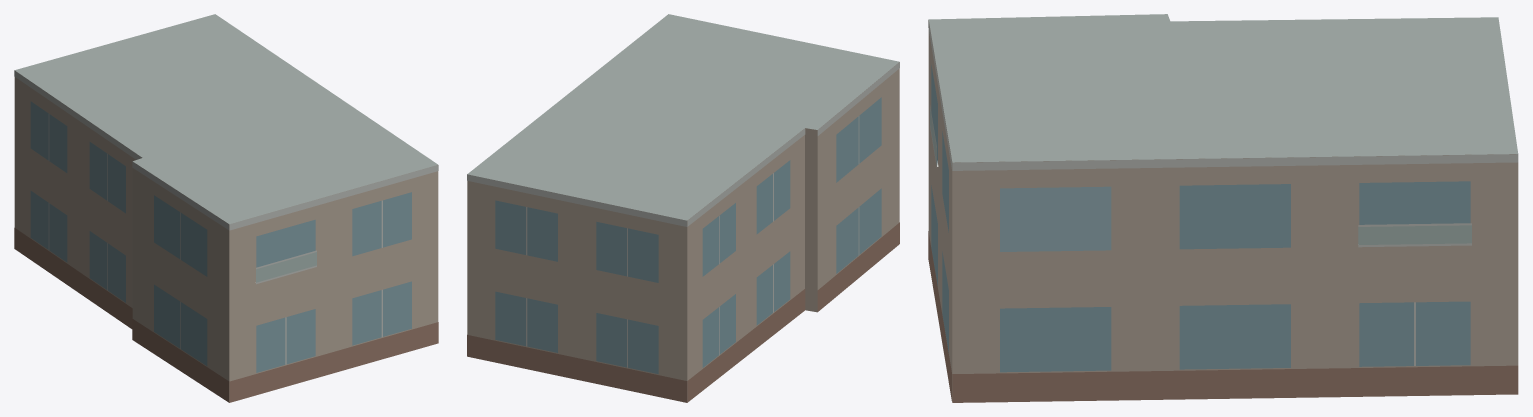
File: survey-upis-32748918.glb
3 views of the same model, side by side, from view 1: azimuth 30°, elevation 25°; view 2: azimuth 150°, elevation 25°; view 3: azimuth 270°, elevation 25° (orthographic). The views are drawn at different scales.
Visible parts, largest first — view 1: survey-upis-32748918.tmp; view 2: survey-upis-32748918.tmp; view 3: survey-upis-32748918.tmp.
Part boxes in pixels (x1=…): survey-upis-32748918.tmp: x1=14, y1=14, x2=438, y2=402; survey-upis-32748918.tmp: x1=467, y1=14, x2=899, y2=402; survey-upis-32748918.tmp: x1=928, y1=14, x2=1518, y2=402.
Size of the model in its own units: 9.15 by 6.9 by 15.35.
